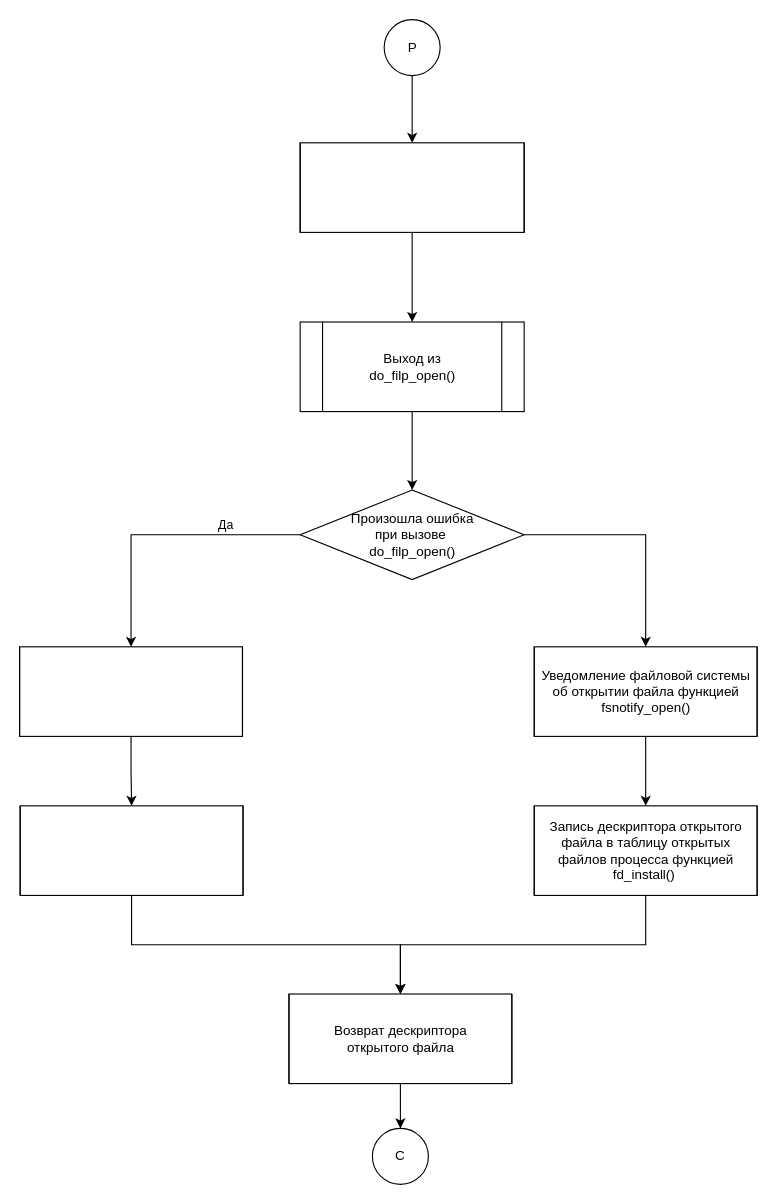
This 777x1204 diagram has some shape labels left out. Here are the shapes that lost their labels. From the top down, the centre of each, then its label:
the point at 411,187: Возврат указателя на struct file
the point at 130,691: Освобождение файлового дескриптора функцией put_unused_fd(fd)
the point at 131,850: Запись ошибки в в дескриптор файла
